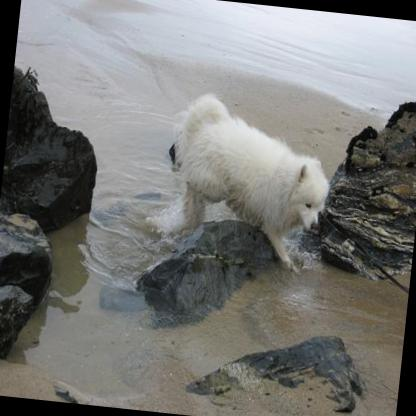Samoyed: (156, 87, 338, 272)
